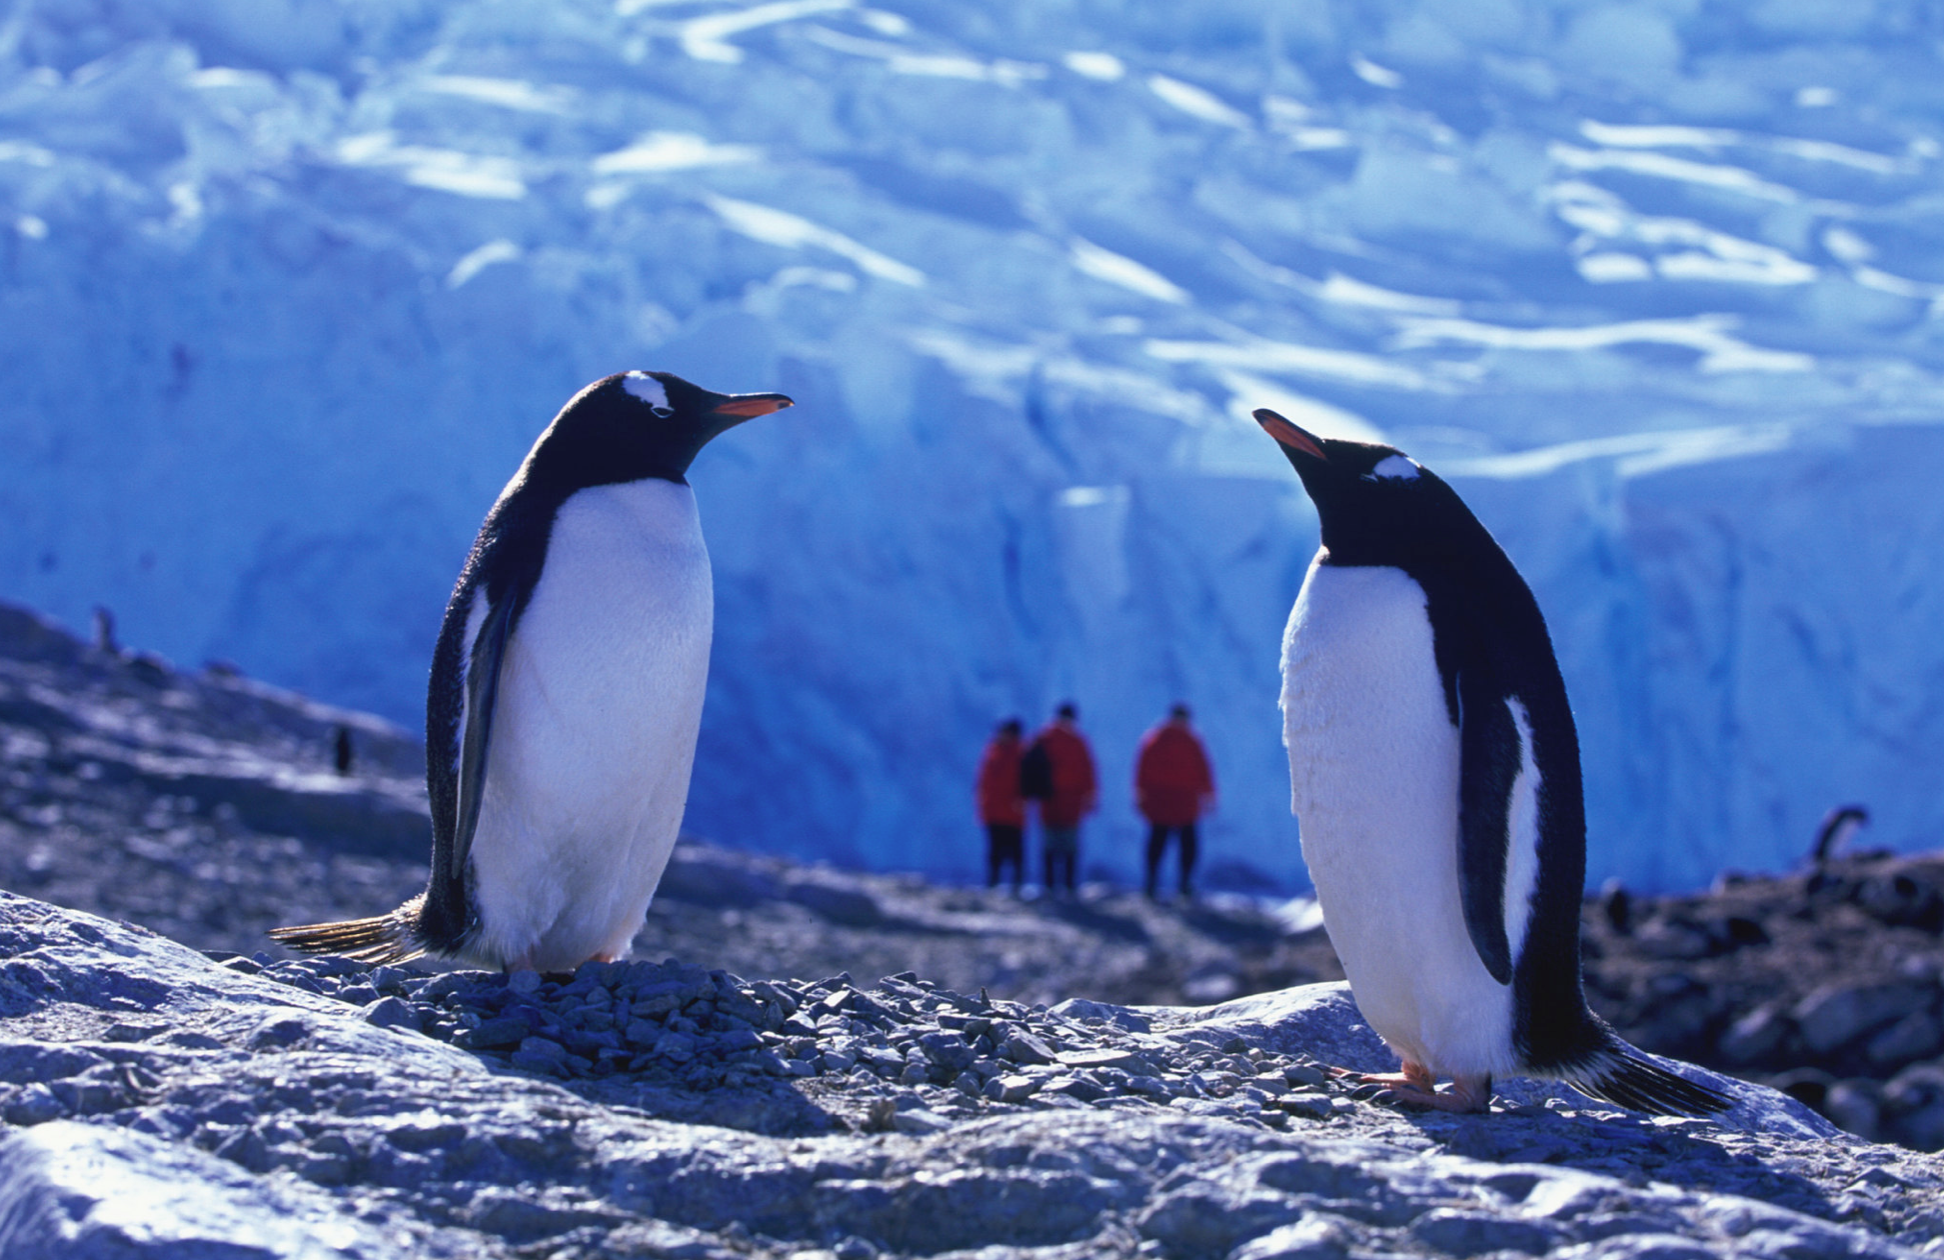penguin: (1261, 407, 1731, 1131), (350, 354, 829, 981)
